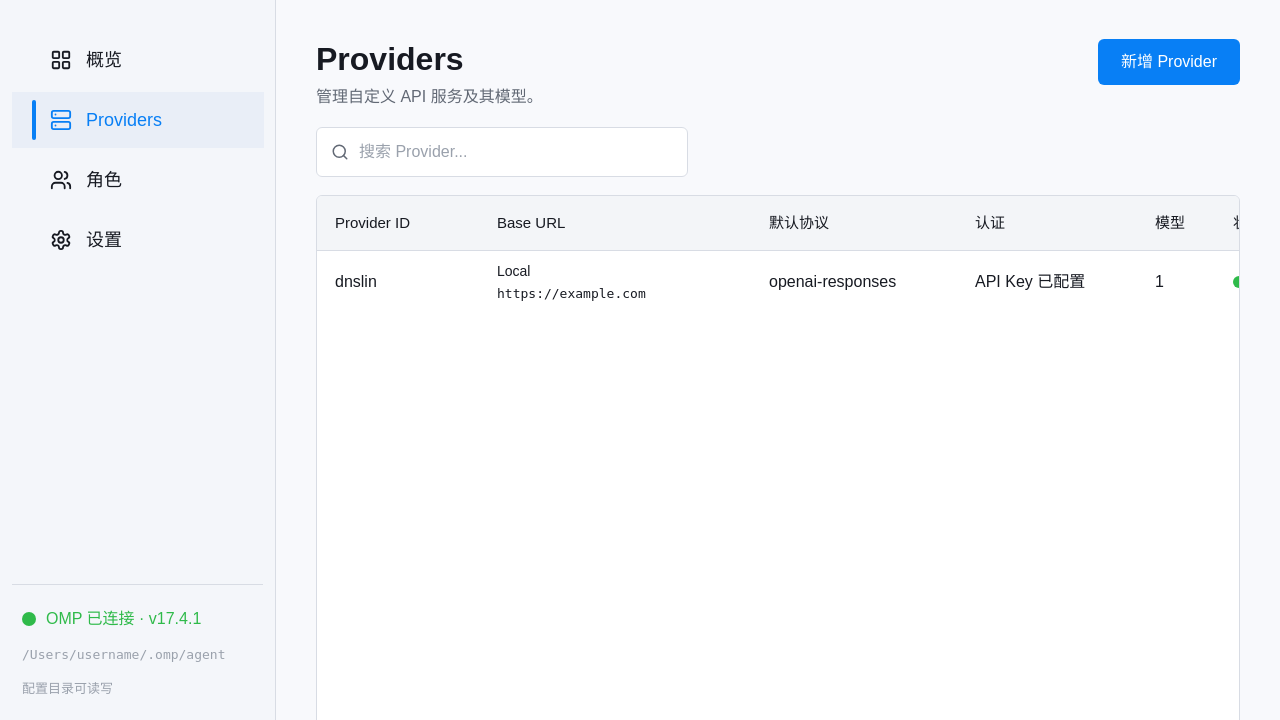
Scenario: React page seam › routes server validation error provider-id-invalid to its visible field
Click the button "新增 Provider": (1169, 62) [1098,39,1240,85]
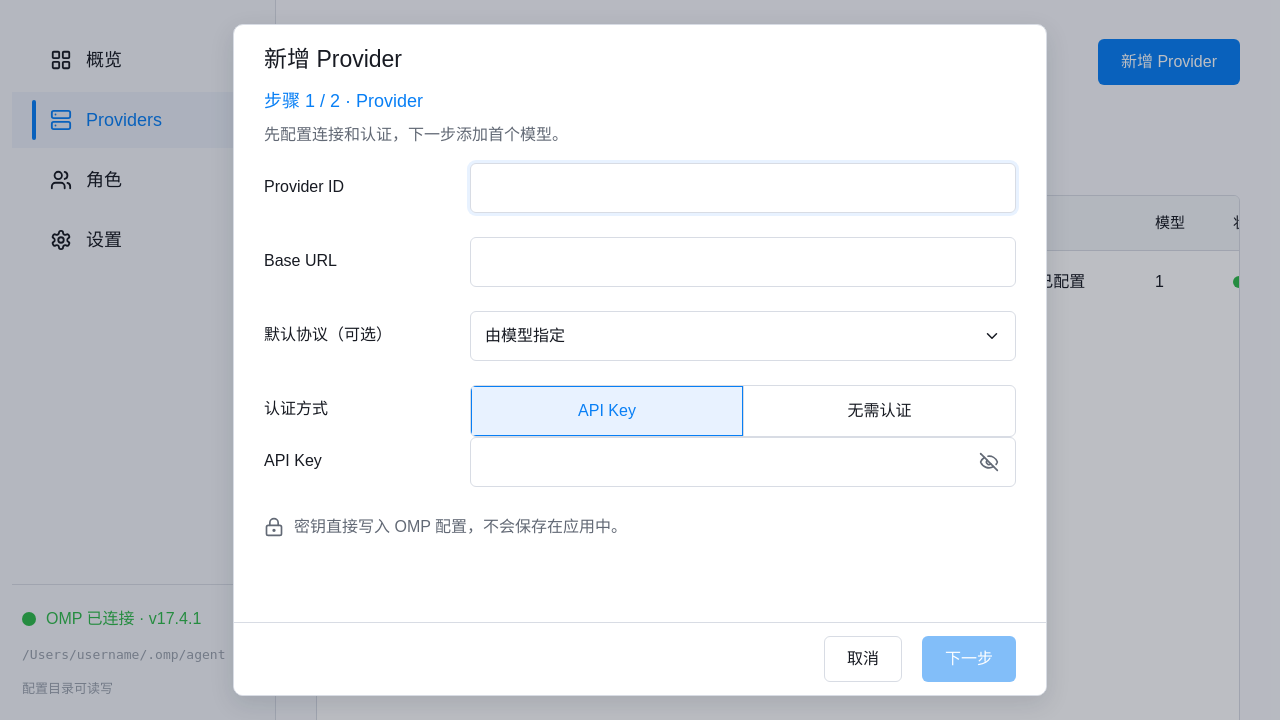
In the field labelled "Provider ID": (743, 188) [470,163,1016,213], type "new-provider"
In the field labelled "Base URL": (743, 262) [470,237,1016,287], type "https://new-provider.example/v1"
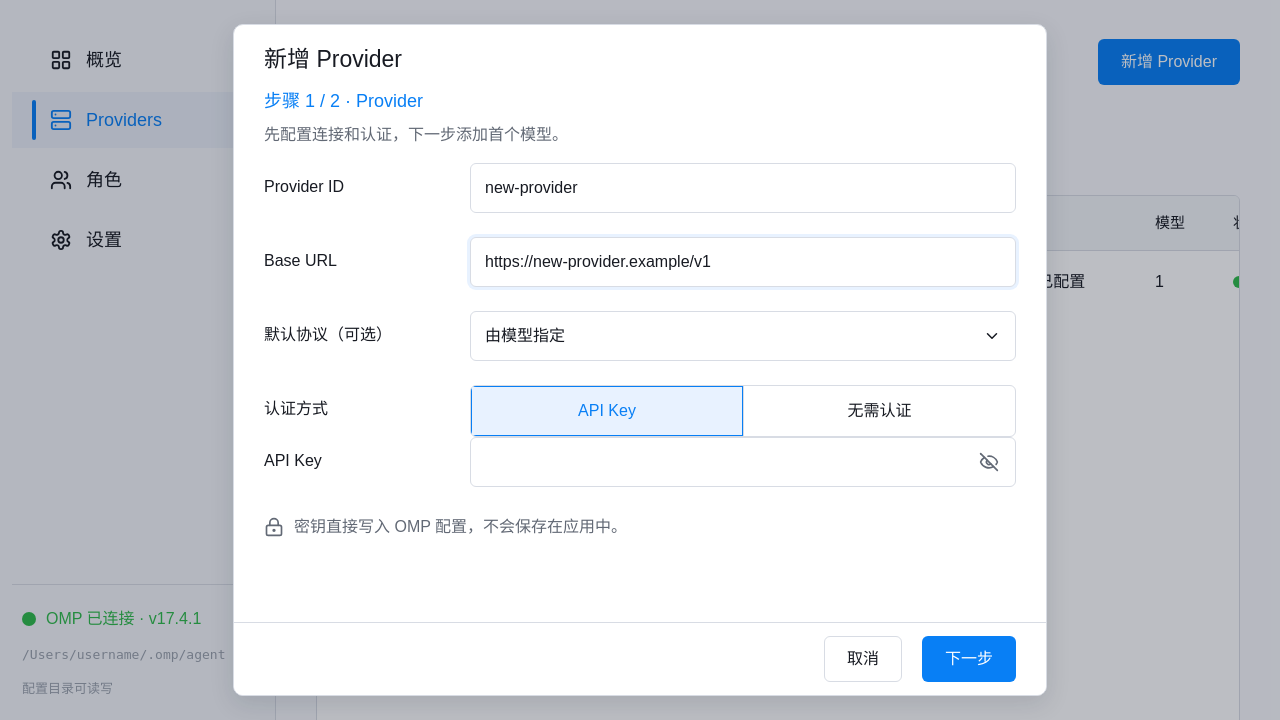
Click the button "下一步": (969, 659) [922,636,1016,682]
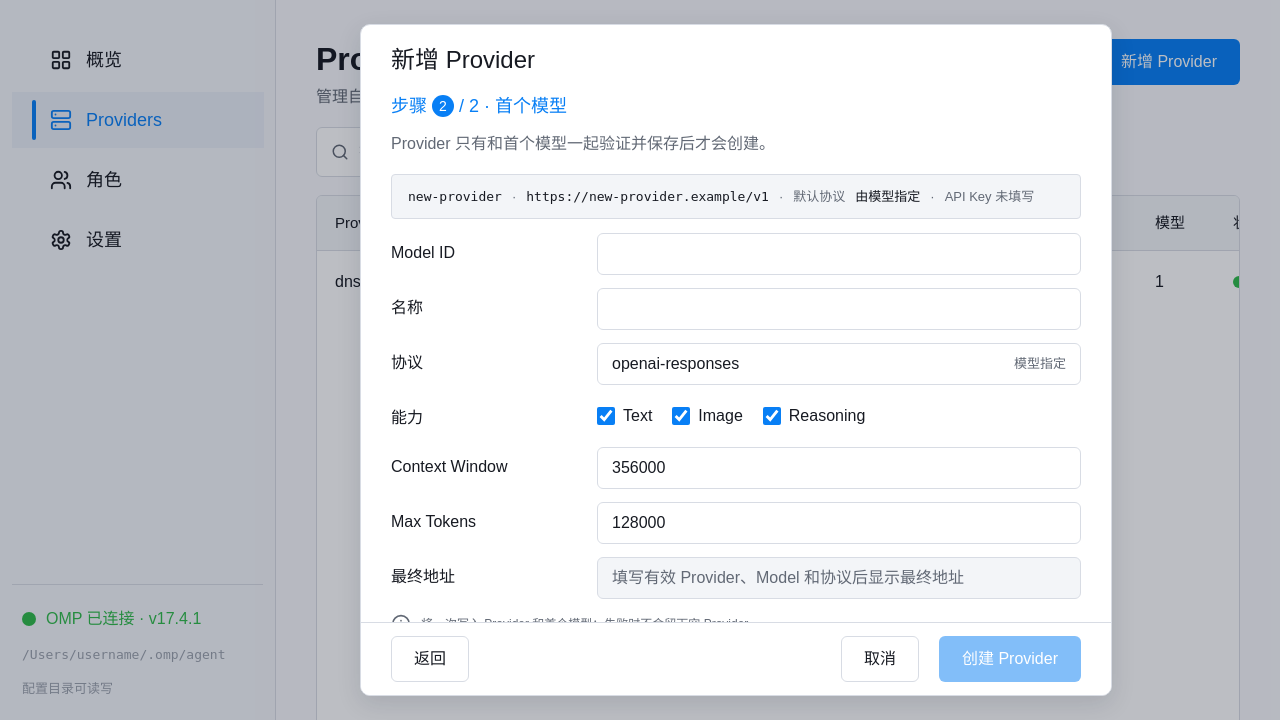
In the field labelled "Model ID": (839, 254) [597,233,1081,275], type "new-model"
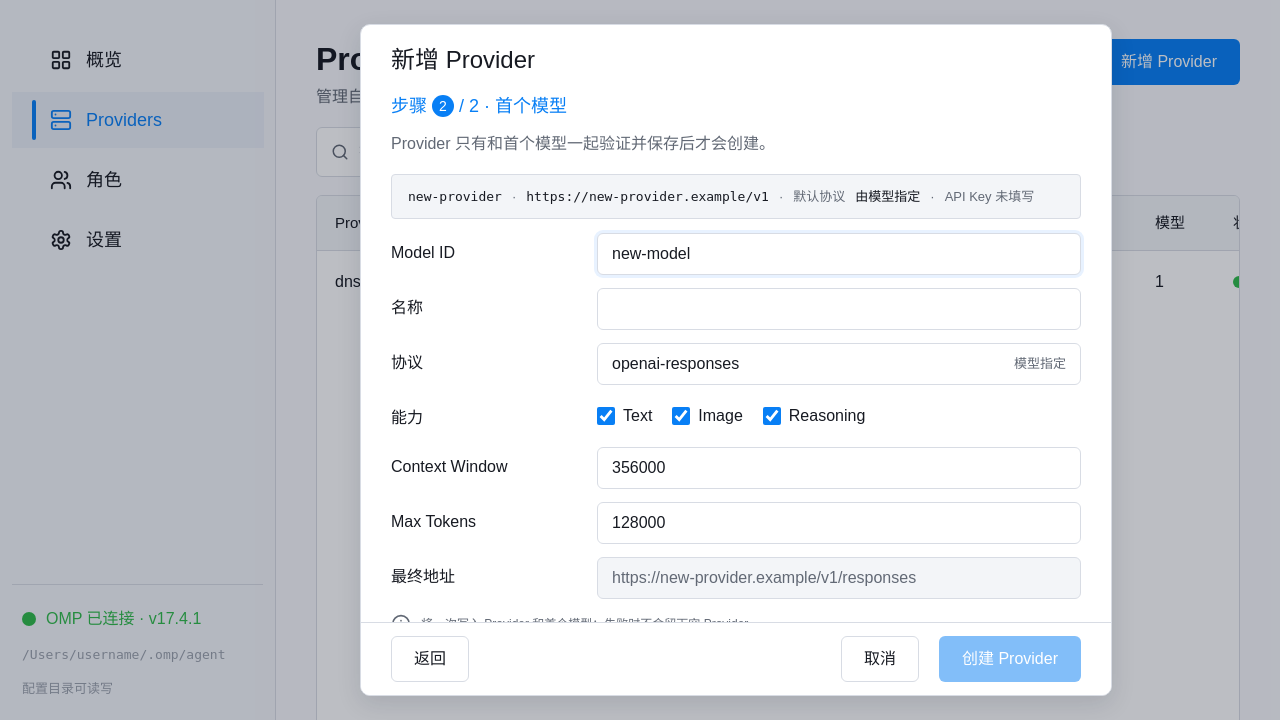
In the field labelled "名称": (839, 309) [597,288,1081,330], type "New Model"
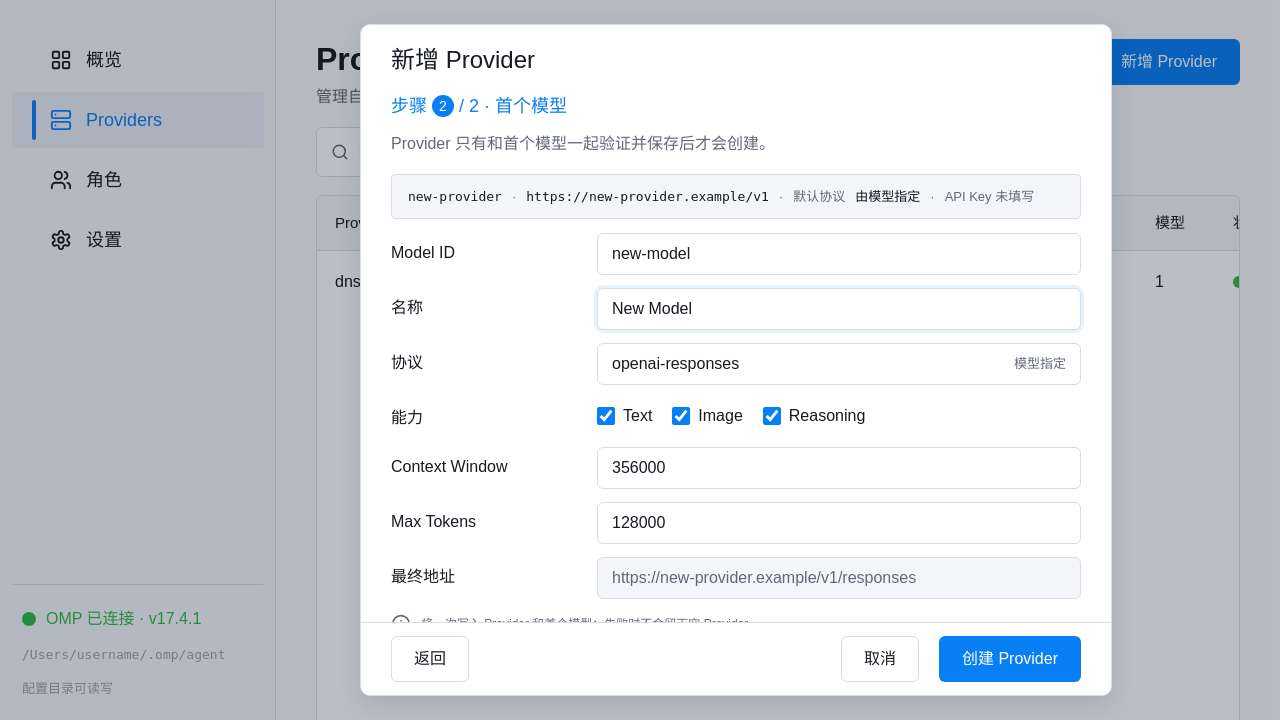
Click the button "创建 Provider": (1010, 659) [939,636,1081,682]
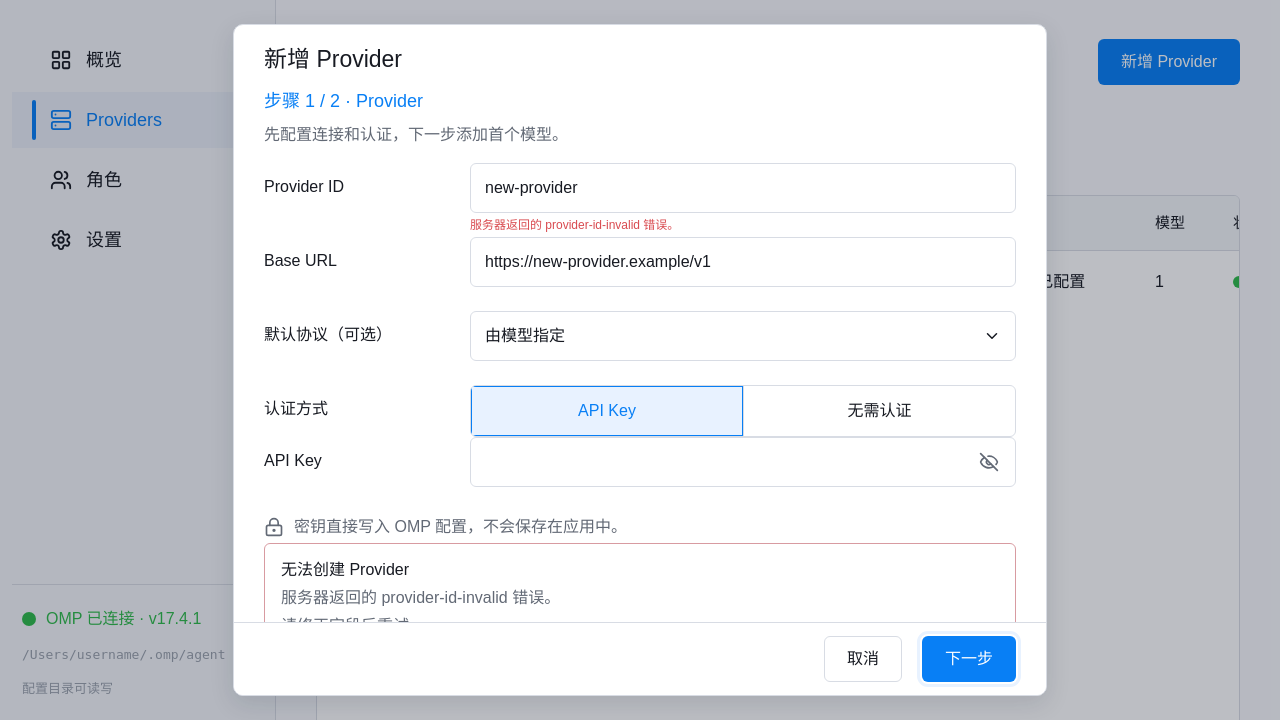
Now the text "步骤 1 / 2 · Provider" is shown, box [264,91,423,111]
Now the element showing "Provider ID 服务器返回的 provider-id-invalid 错误。" is shown, box [264,163,1016,237]
